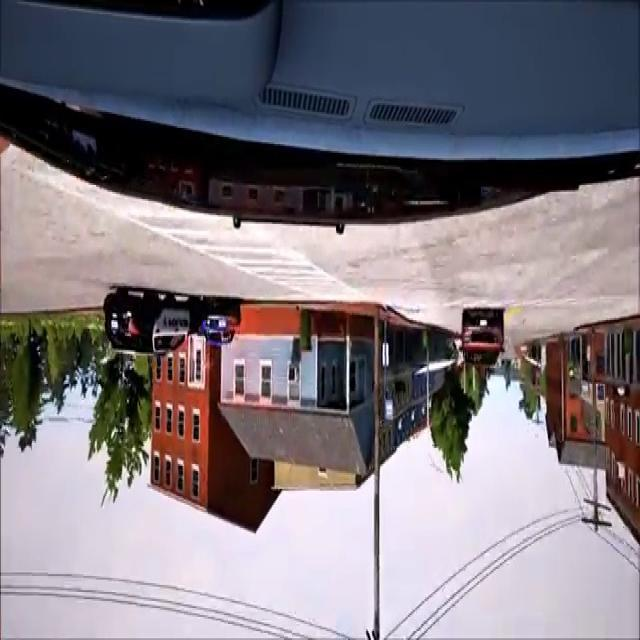moderate: (100, 286, 244, 372)
